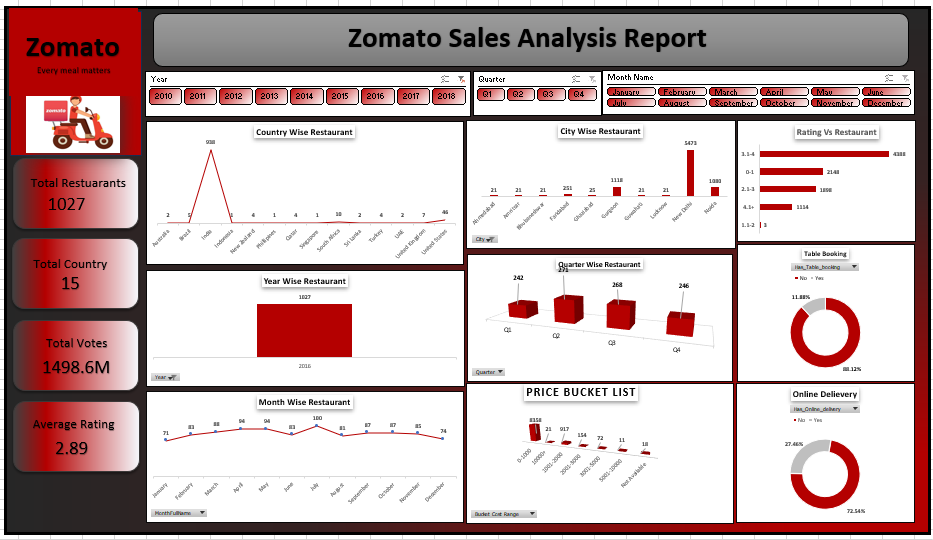

This screenshot's page, from the dashboard's own definition file:
{"tool":"powerbi","page":{"name":"Page 1","canvas":[1280,720],"ordinal":0},"visuals":[{"type":"shape","box":[8.7,0,1271.1,95.5],"z":0},{"type":"image","box":[8.7,0,135.6,106.8],"z":1000},{"type":"textbox","box":[389.5,17.3,634.8,67.8],"z":2000},{"type":"card","fields":{"Values":["CountNonNull(Main Table.RestaurantID)"]},"box":[225.1,107.8,212.1,95.2],"z":3000},{"type":"card","fields":{"Values":["Count(Main Table.City)"]},"box":[446.5,106.8,197.7,95.2],"z":4000},{"type":"card","fields":{"Values":["Count(Main Table.CountryCode)"]},"box":[653.6,108.2,197.7,95.2],"z":5000},{"type":"card","fields":{"Values":["Avg(Main Table.Rating)"]},"box":[860.6,107.1,197.7,95.2],"z":6000},{"type":"card","fields":{"Values":["Sum(Main Table.Votes)"]},"box":[1067.6,107.5,197.7,95.2],"z":7000},{"type":"slicer","fields":{"Values":["Country Code.Country"]},"box":[0,244.6,165.1,464.7],"z":7001},{"type":"lineStackedColumnComboChart","fields":{"Category":["Main Table.Cuisines"],"Y":["CountNonNull(Main Table.Cuisines)"],"Y2":["Avg(Main Table.Rating)"]},"box":[697,244.6,568.6,223.8],"z":7002},{"type":"clusteredBarChart","title":"City Wise Restaurant Count","fields":{"Category":["Main Table.City"],"Y":["CountNonNull(Main Table.RestaurantID)"]},"box":[187.1,244.6,498.9,214],"z":7003},{"type":"clusteredBarChart","title":"Top 10 Cuisine Wise Restaurant Count","fields":{"Category":["Main Table.Cuisines"],"Y":["CountNonNull(Main Table.RestaurantName)"]},"box":[189,479,496.3,229.4],"z":7004},{"type":"pieChart","title":"Online Delivery ","fields":{"Category":["Main Table.Has_Online_delivery"],"Y":["CountNonNull(Main Table.RestaurantID)"]},"box":[696.6,480,284.3,230.2],"z":7005},{"type":"donutChart","title":"Table Booking","fields":{"Category":["Main Table.Has_Table_booking"],"Y":["CountNonNull(Main Table.RestaurantID)"]},"box":[988.3,480,276.9,230.2],"z":7006},{"type":"slicer","fields":{"Values":["Main Table.Year"]},"box":[7.3,107.6,205.4,117.4],"z":7007}]}

Visuals, with their boxes in screenshot pixels (x1, y1, x2, y2), scaled from the page's 1280x720 canvas onto the 933x540 screenshot:
shape: bbox=(6, 0, 932, 72)
image: bbox=(6, 0, 105, 80)
textbox: bbox=(284, 13, 747, 64)
card - CountNonNull(Main Table.RestaurantID): bbox=(164, 81, 319, 152)
card - Count(Main Table.City): bbox=(325, 80, 470, 152)
card - Count(Main Table.CountryCode): bbox=(476, 81, 621, 153)
card - Avg(Main Table.Rating): bbox=(627, 80, 771, 152)
card - Sum(Main Table.Votes): bbox=(778, 81, 922, 152)
slicer - Country Code.Country: bbox=(0, 183, 120, 532)
lineStackedColumnComboChart - Main Table.Cuisines x CountNonNull(Main Table.Cuisines): bbox=(508, 183, 923, 351)
"City Wise Restaurant Count" clusteredBarChart: bbox=(136, 183, 500, 344)
"Top 10 Cuisine Wise Restaurant Count" clusteredBarChart: bbox=(138, 359, 500, 531)
"Online Delivery " pieChart: bbox=(508, 360, 715, 533)
"Table Booking" donutChart: bbox=(720, 360, 922, 533)
slicer - Main Table.Year: bbox=(5, 81, 155, 169)
